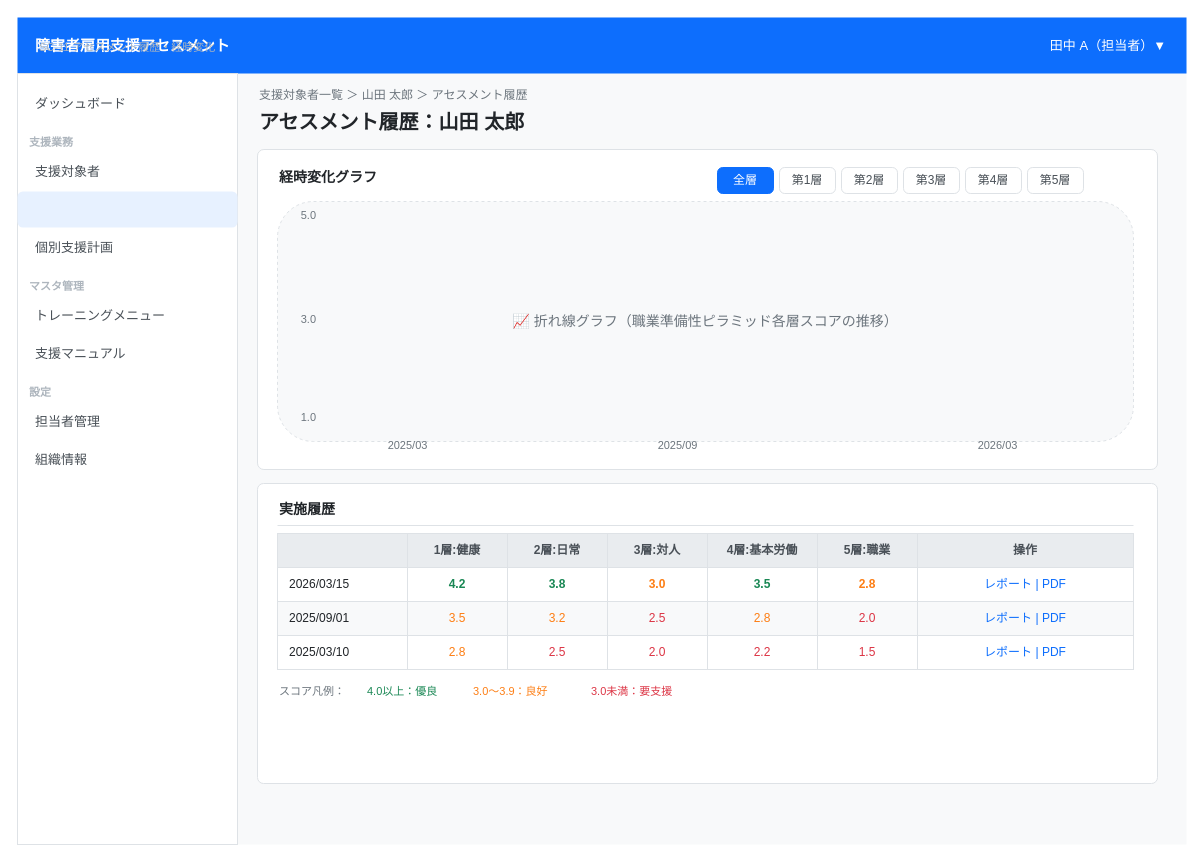
This 1204x862 diagram has some shape labels left out. Here are the shapes that lost their labels. From the top down, the centre of each, then its label:
At pixel 127 209: "アセスメント".
At pixel 342 550: "実施日".
